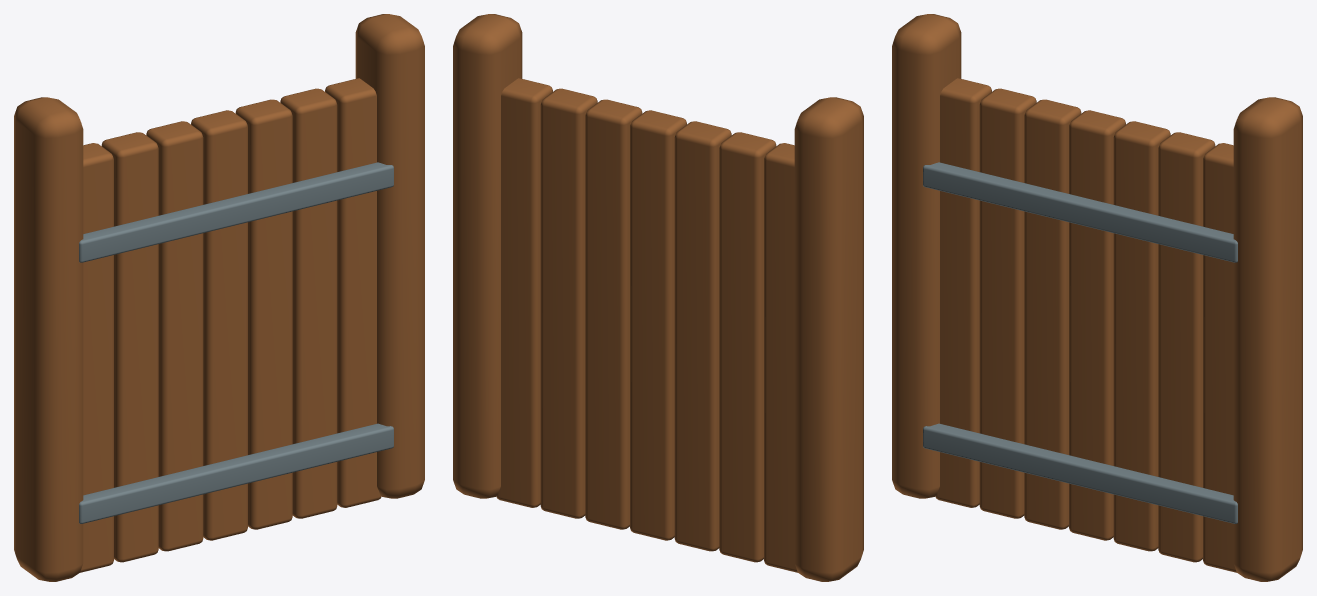
Rendered from BSC-14.glb.
3 views of the same model, side by side, from view 1: azimuth 30°, elevation 25°; view 2: azimuth 150°, elevation 25°; view 3: azimuth 330°, elevation 25° (orthographic).
Visible parts, largest first — view 1: door post, door post.001, door plank.002, door plank.005, door plank.001, door plank.004, door plank.003, door plank.006, door plank, iron brace, iron brace.001; view 2: door post, door post.001, door plank.002, door plank.005, door plank.001, door plank.004, door plank.003, door plank.006, door plank; view 3: door post.001, door post, door plank.004, door plank.001, door plank.005, door plank.002, door plank.003, door plank, door plank.006, iron brace, iron brace.001.
Part boxes in pixels (x1,y1,x2,y2): door post: (14, 97, 83, 581); door post.001: (355, 14, 424, 498); door plank.002: (146, 121, 203, 551); door plank.005: (280, 88, 337, 518); door plank.001: (101, 132, 158, 562); door plank.004: (235, 99, 292, 529); door plank.003: (191, 110, 247, 540); door plank.006: (325, 78, 381, 507); door plank: (80, 143, 113, 572); iron brace: (79, 423, 393, 523); iron brace.001: (79, 162, 393, 262); door post: (794, 97, 863, 581); door post.001: (453, 14, 522, 498); door plank.002: (674, 121, 731, 551); door plank.005: (540, 88, 597, 518); door plank.001: (719, 132, 776, 562); door plank.004: (585, 99, 642, 529); door plank.003: (630, 110, 686, 540); door plank.006: (496, 78, 552, 507); door plank: (764, 143, 797, 572); door post.001: (1233, 97, 1302, 581); door post: (892, 14, 961, 498); door plank.004: (1113, 121, 1170, 551); door plank.001: (979, 88, 1036, 518); door plank.005: (1158, 132, 1215, 562); door plank.002: (1024, 99, 1081, 529); door plank.003: (1069, 110, 1125, 540); door plank: (935, 78, 991, 507); door plank.006: (1203, 143, 1236, 572); iron brace: (923, 423, 1237, 523); iron brace.001: (923, 162, 1237, 262).
Size of the model in its own units: 1.48 by 1.7 by 0.24.
